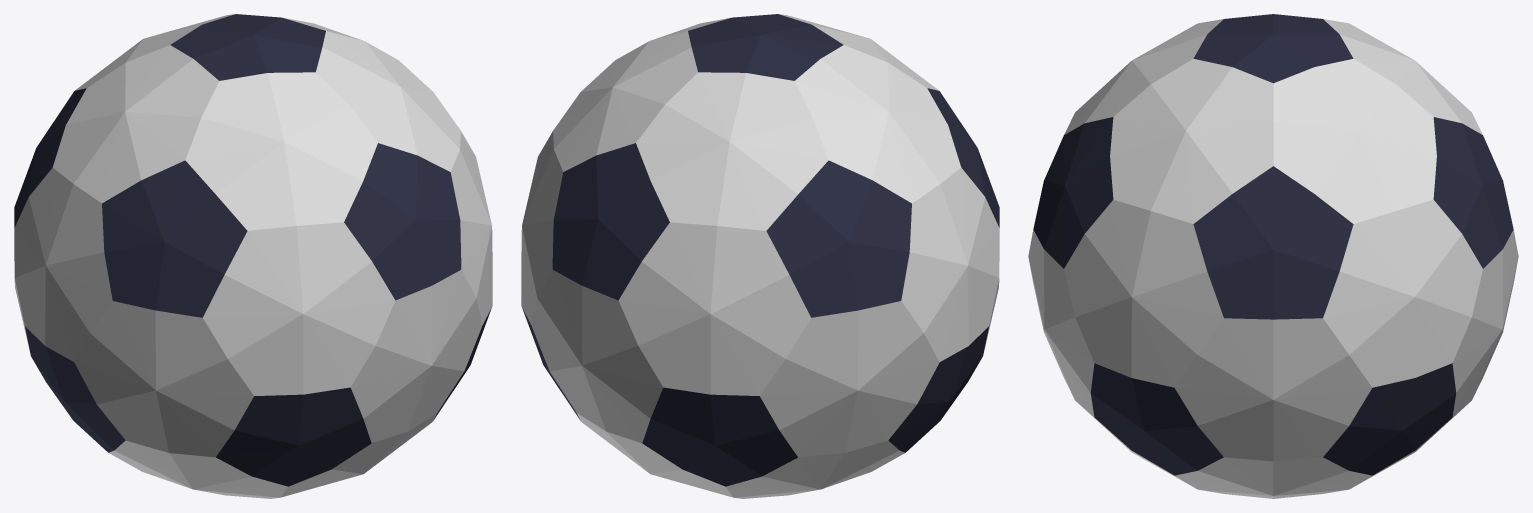
File: soccer_ball.glb
The picture shows the model from 3 angles, left to right: view 1: azimuth 30°, elevation 25°; view 2: azimuth 150°, elevation 25°; view 3: azimuth 270°, elevation 25°; orthographic projection.
Parts seen in each view (by area): view 1: ball; view 2: ball; view 3: ball.
Boxes of the visible parts, box(x1,y1,x2,y2) form: ball: box(14, 14, 492, 498); ball: box(521, 14, 999, 498); ball: box(1028, 14, 1518, 498).
Size of the model in its own units: 19.69 by 20 by 20.
